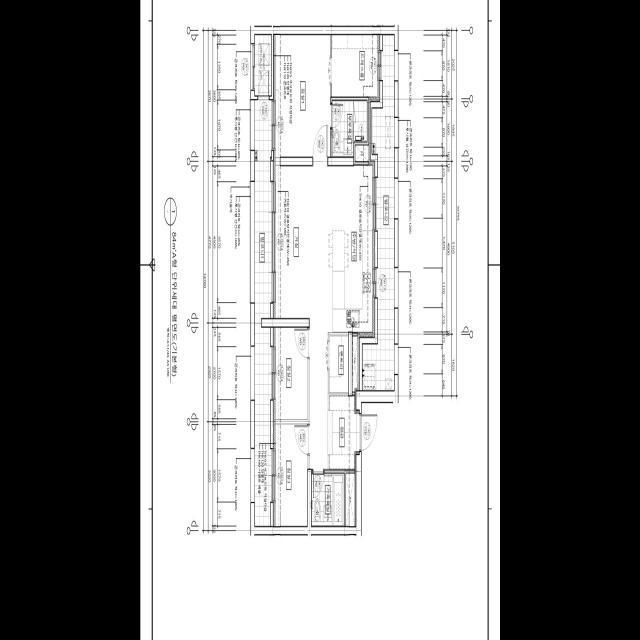background: (140, 0, 500, 640)
space_balconi: (362, 35, 394, 390), (254, 100, 272, 526)
space_bedroom: (273, 35, 330, 157), (273, 424, 307, 526), (273, 327, 307, 419)
space_dressroom: (332, 35, 379, 101)
space_kitchen: (327, 161, 375, 337), (328, 396, 359, 469)
space_living_room: (273, 166, 328, 469)
space_other: (329, 336, 348, 392), (254, 35, 271, 96), (346, 473, 355, 526), (352, 336, 359, 392), (355, 145, 370, 161)
space_toilet: (332, 101, 367, 156), (311, 474, 344, 525)
